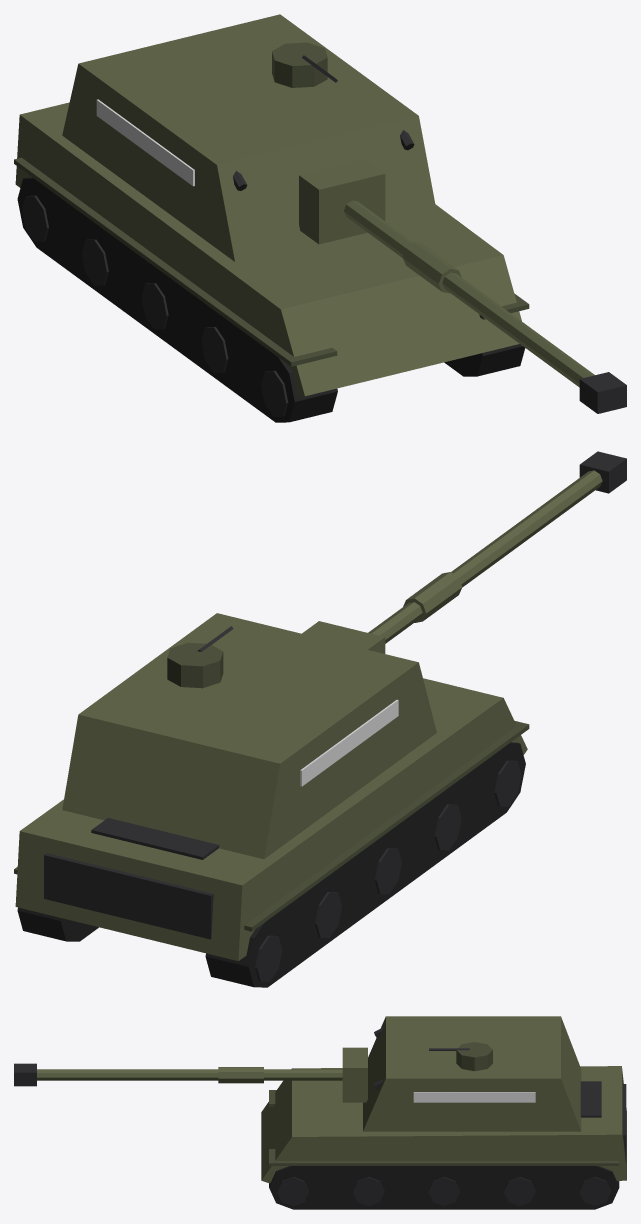
File: spg.glb
The picture shows the model from 3 angles, top to bottom: view 1: azimuth 30°, elevation 25°; view 2: azimuth 150°, elevation 25°; view 3: azimuth 270°, elevation 25°; orthographic projection. The views are drawn at different scales.
Visible parts, largest first — view 1: Body; view 2: Body; view 3: Body.
Boxes of the visible parts, <box> form: Body: <box>14,14,626,422</box>; Body: <box>14,451,626,987</box>; Body: <box>14,1016,626,1209</box>.
Size of the model in its own units: 3.42 by 3.08 by 12.08.
